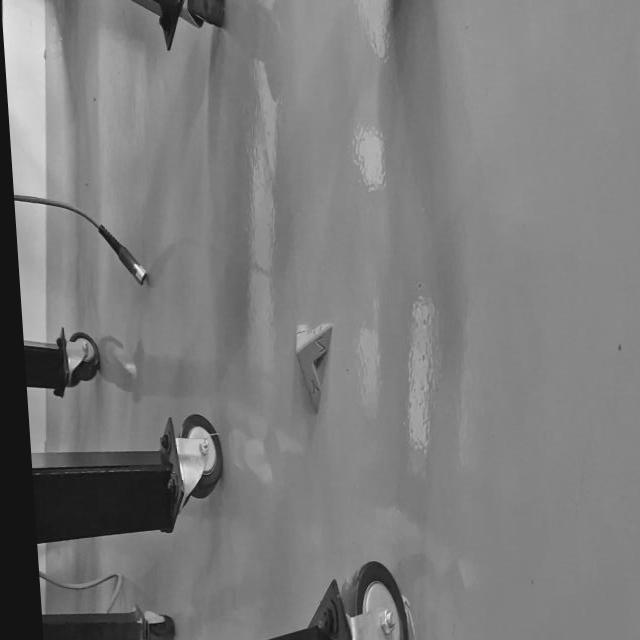eje: (292, 322, 338, 414)
